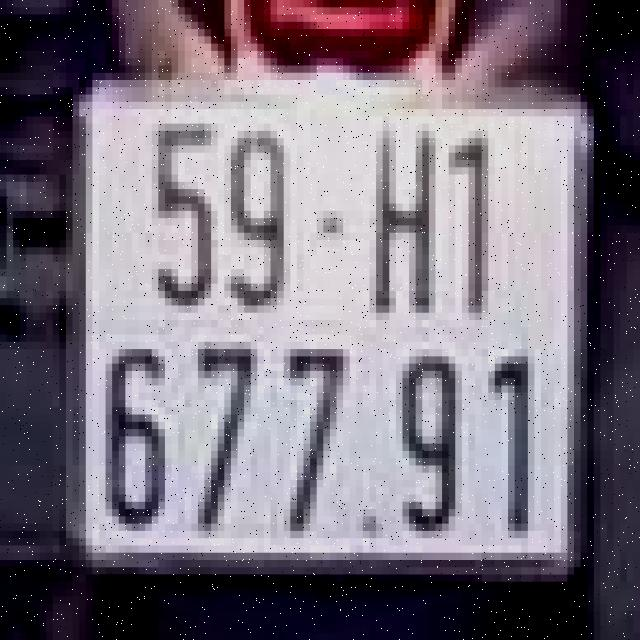1: (448, 127, 502, 331), (492, 345, 544, 542)
5: (138, 116, 218, 320)
6: (99, 335, 178, 538)
7: (274, 338, 353, 535), (188, 335, 261, 538)
9: (386, 349, 465, 538), (228, 128, 300, 316)
H: (363, 127, 442, 324)
